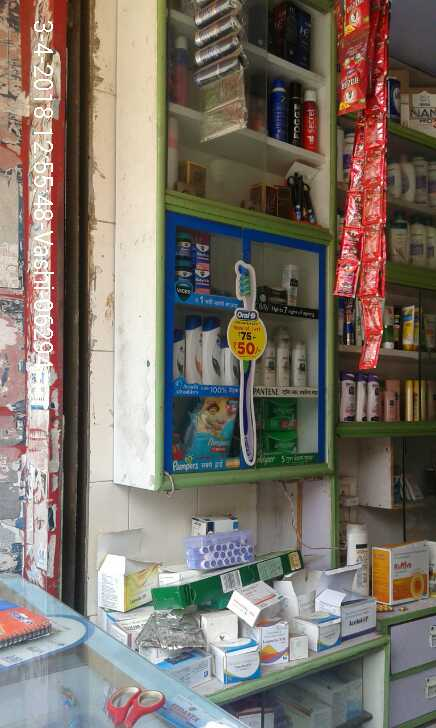vicks: (178, 231, 212, 294)
